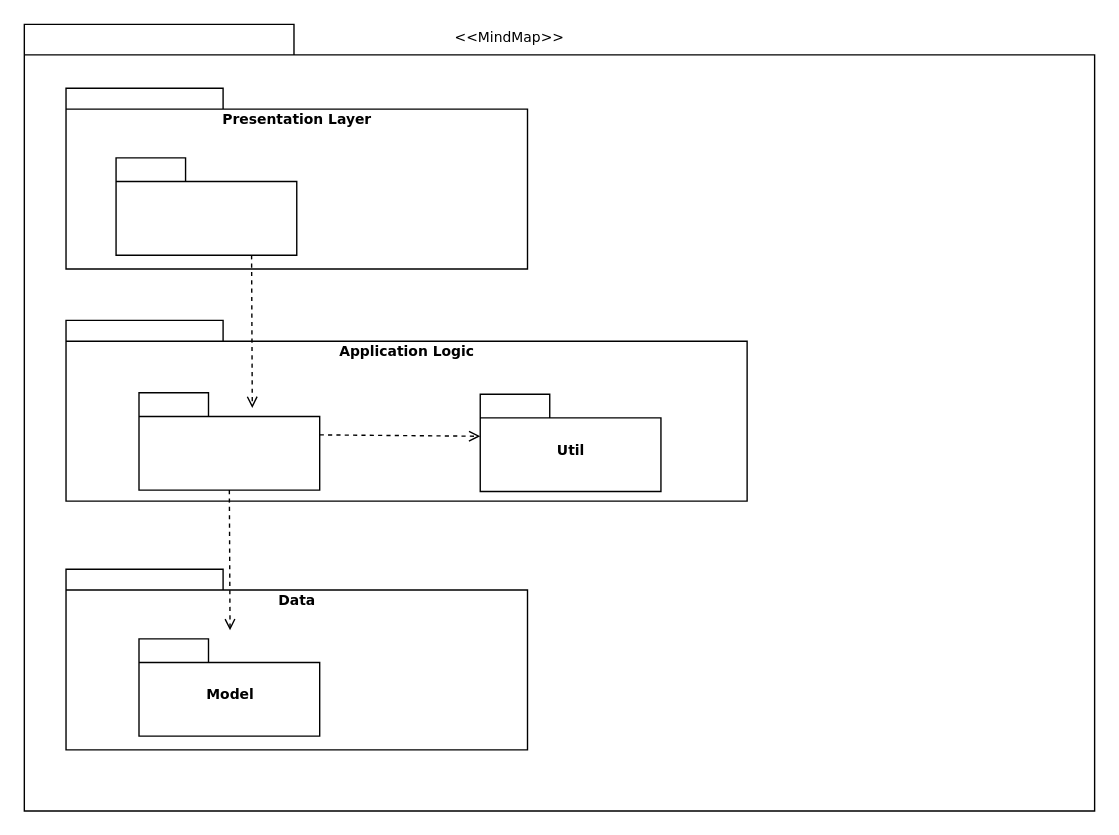
Some shapes in this 1119 by 835 pixel diagram are drawn without their labels. Each missing label, with the centre of its shape:
"Controller" goes at [229,440].
"View" goes at [206,206].
